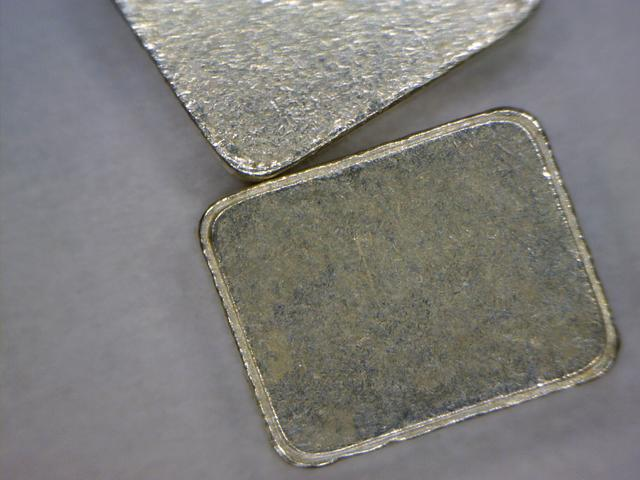nok: (182, 98, 627, 472)
